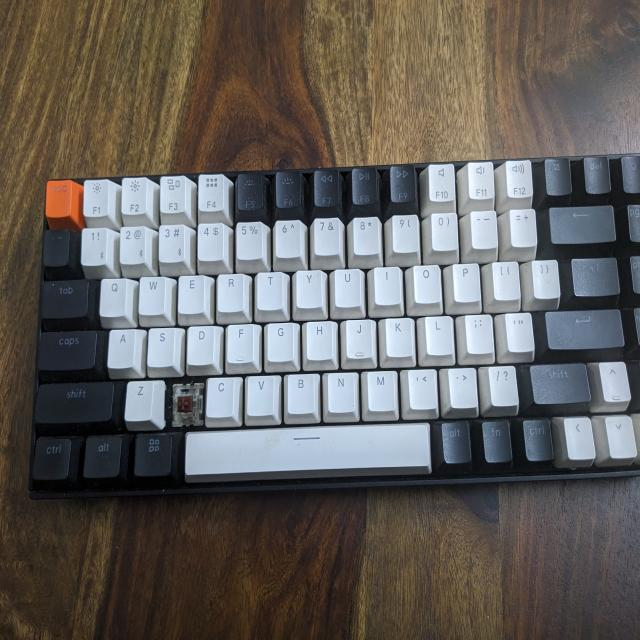C: (170, 382, 202, 426)
